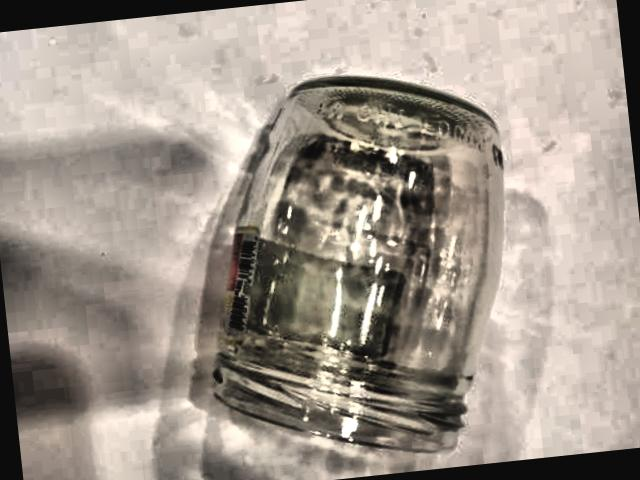Almennt: (167, 44, 567, 480)
